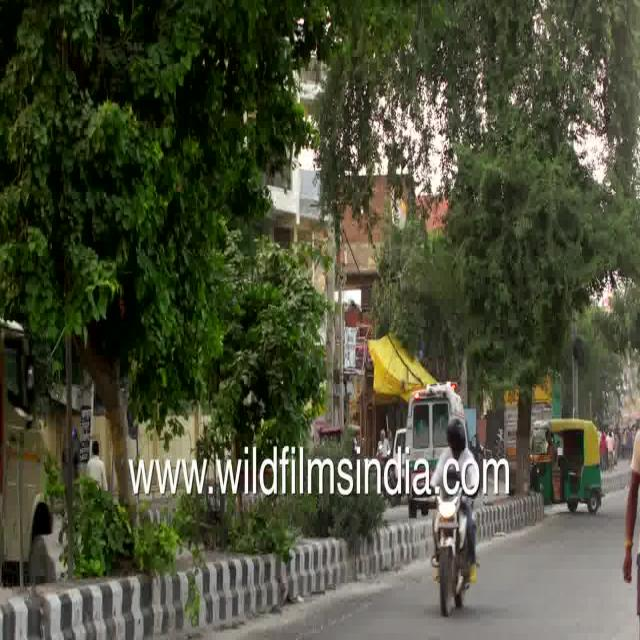ambulance: (403, 383, 463, 435)
